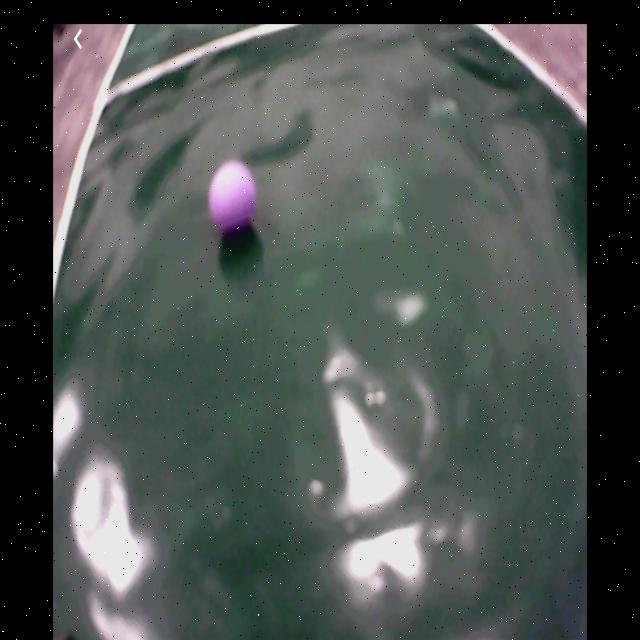ball: (210, 161, 258, 238)
